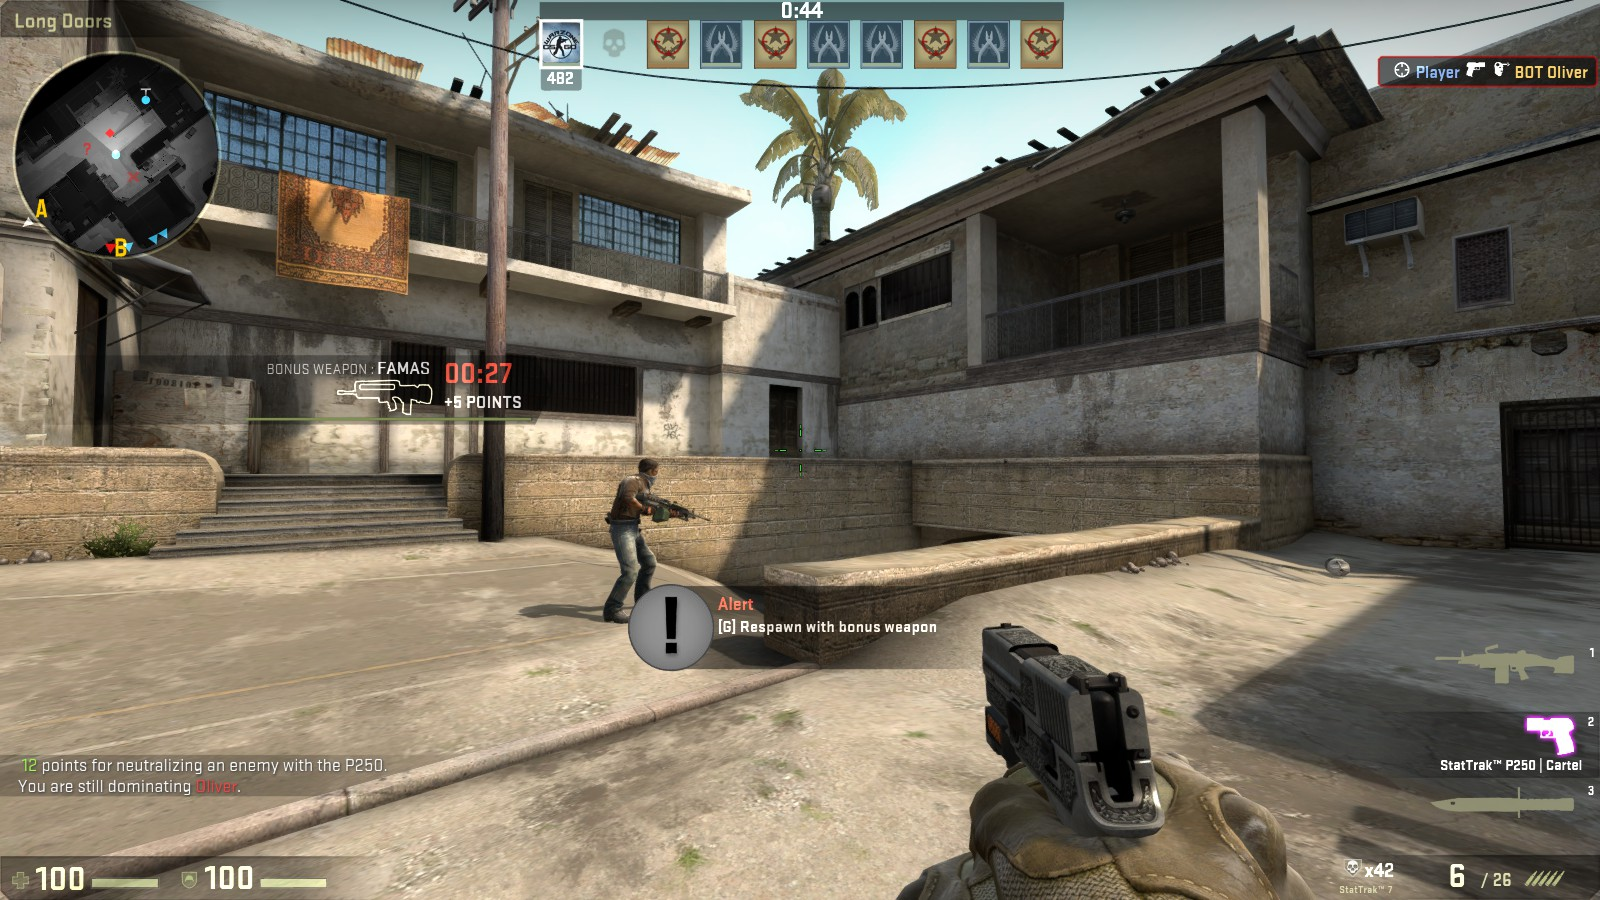t: (595, 456, 662, 627)
th: (632, 455, 663, 485)
